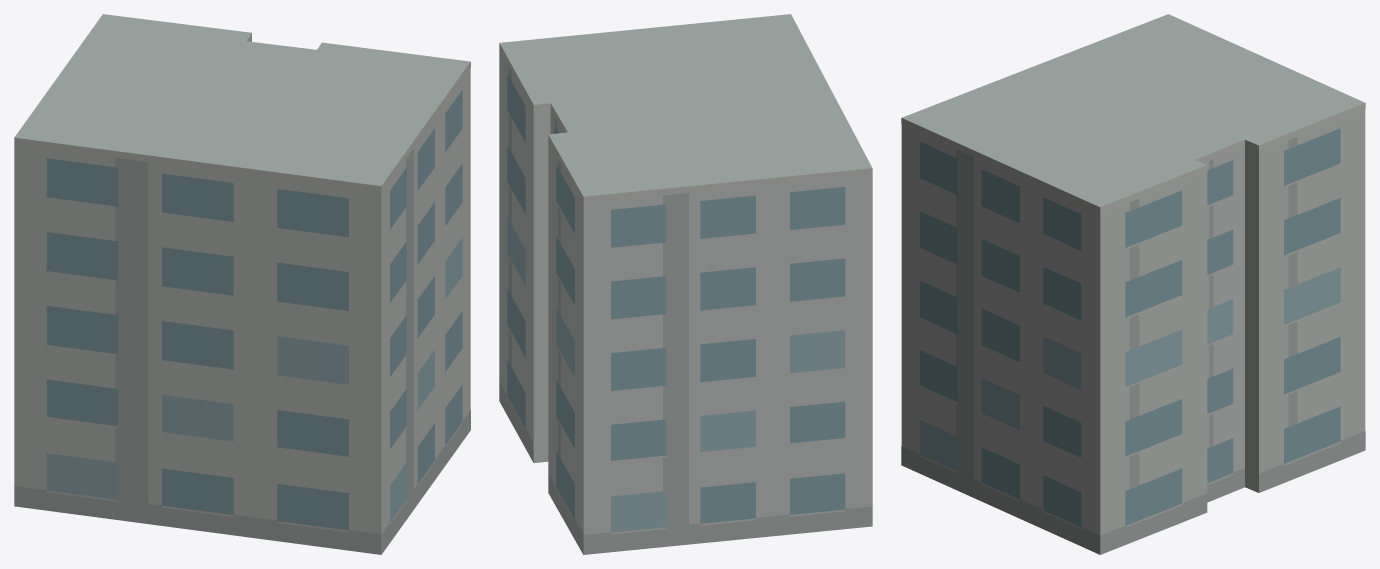
Rendered from survey-upis-32888624.glb.
3 renders of one model, left to right at view 1: azimuth 30°, elevation 25°; view 2: azimuth 150°, elevation 25°; view 3: azimuth 270°, elevation 25°, orthographic. The views are drawn at different scales.
Visible parts, largest first — view 1: survey-upis-32888624.tmp; view 2: survey-upis-32888624.tmp; view 3: survey-upis-32888624.tmp.
Boxes of the visible parts, x1=… form: survey-upis-32888624.tmp: x1=14, y1=14, x2=470, y2=554; survey-upis-32888624.tmp: x1=499, y1=14, x2=872, y2=554; survey-upis-32888624.tmp: x1=901, y1=14, x2=1365, y2=554.
Bounding box in the file's own units: 15.58 × 13.05 × 15.79.
